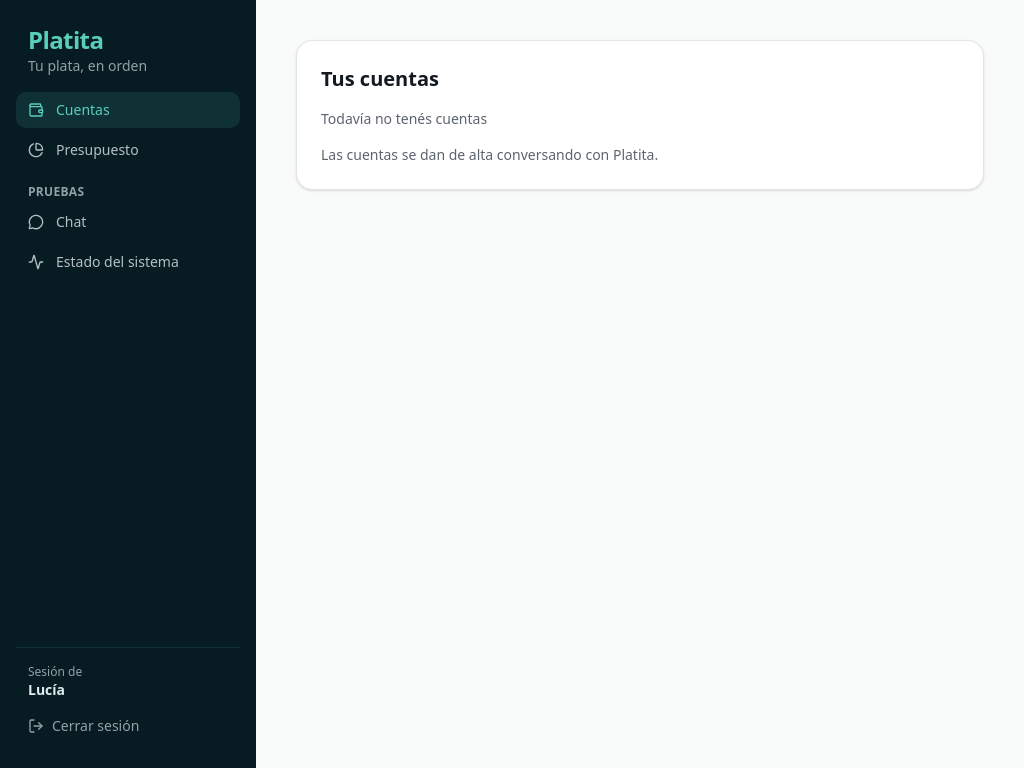
Test: case C1-14: write and send with Enter
This screenshot has width=1024, height=768.
Step 1. Click the button "Chat" → [128, 222], box [16,204,240,240]
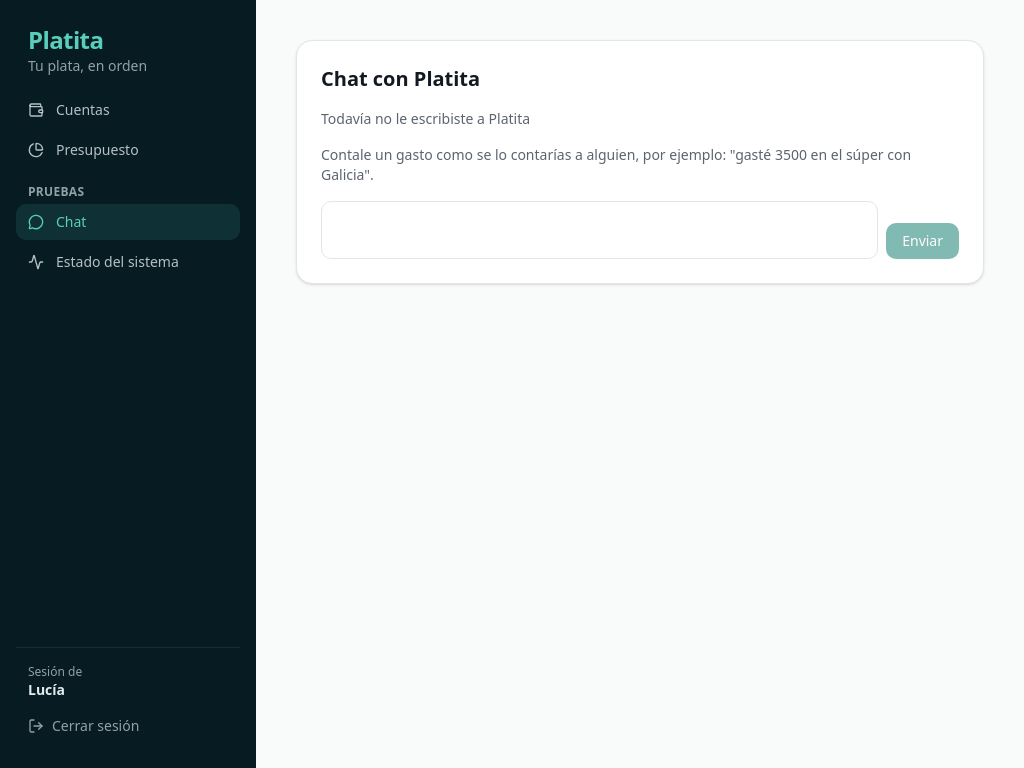
Step 2. Type "gasté 3500 en el súper" into the text box named "Tu mensaje" → [600, 230], box [321,201,878,259]
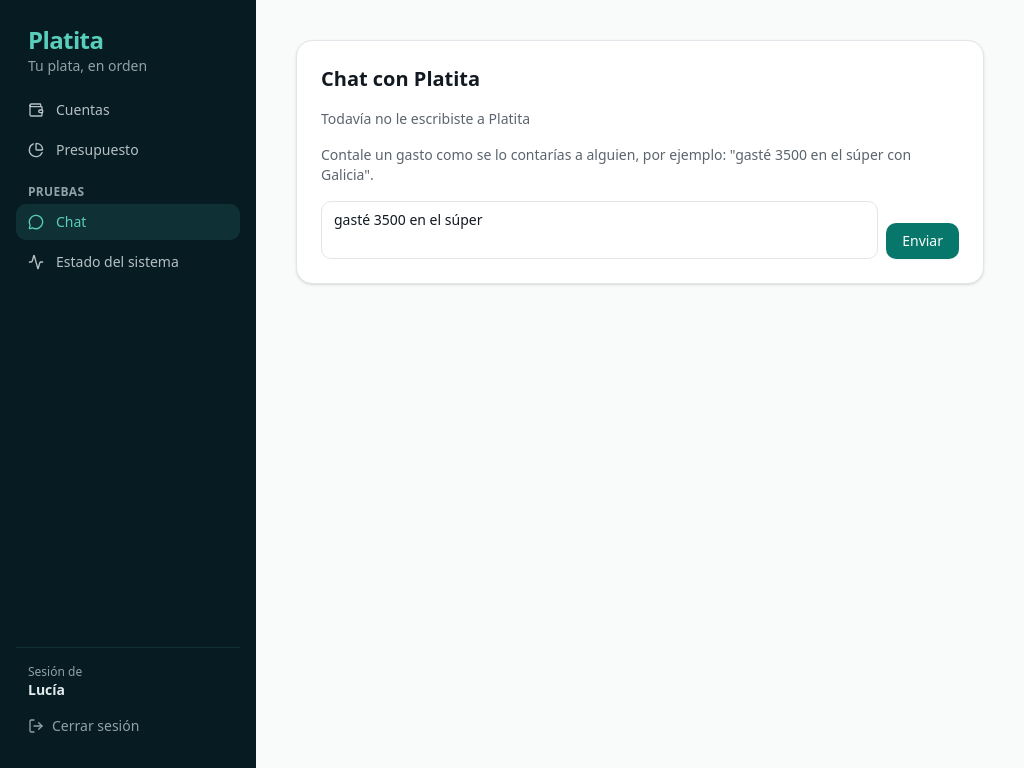
Step 3. Press Enter in the text box named "Tu mensaje", box [321,201,878,259]
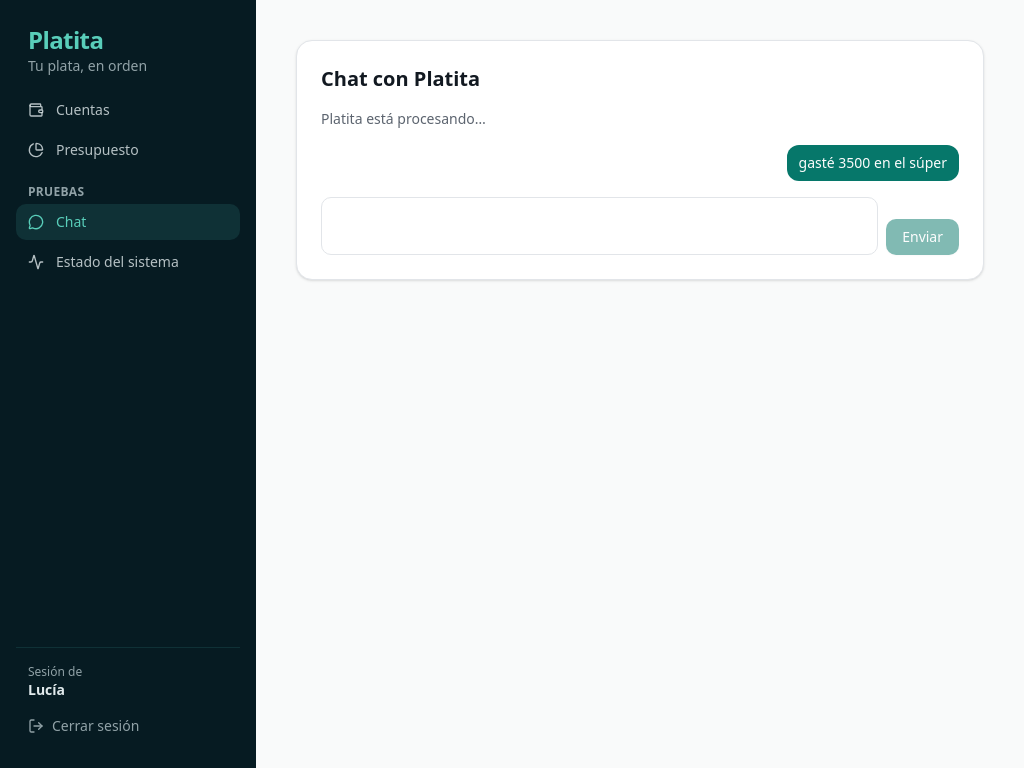
expect the text "gasté 3500 en el súper" is shown: met, box [799,153,947,173]
expect the text box named "Tu mensaje" is empty: met, box [321,197,878,255]
expect the text "Platita está procesando…" is shown: met, box [321,109,486,128]
